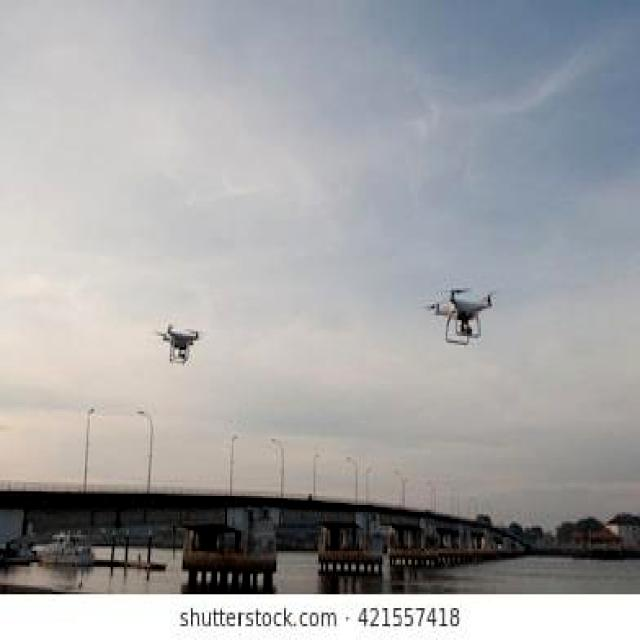drone: (427, 286, 492, 347), (153, 322, 200, 366)
